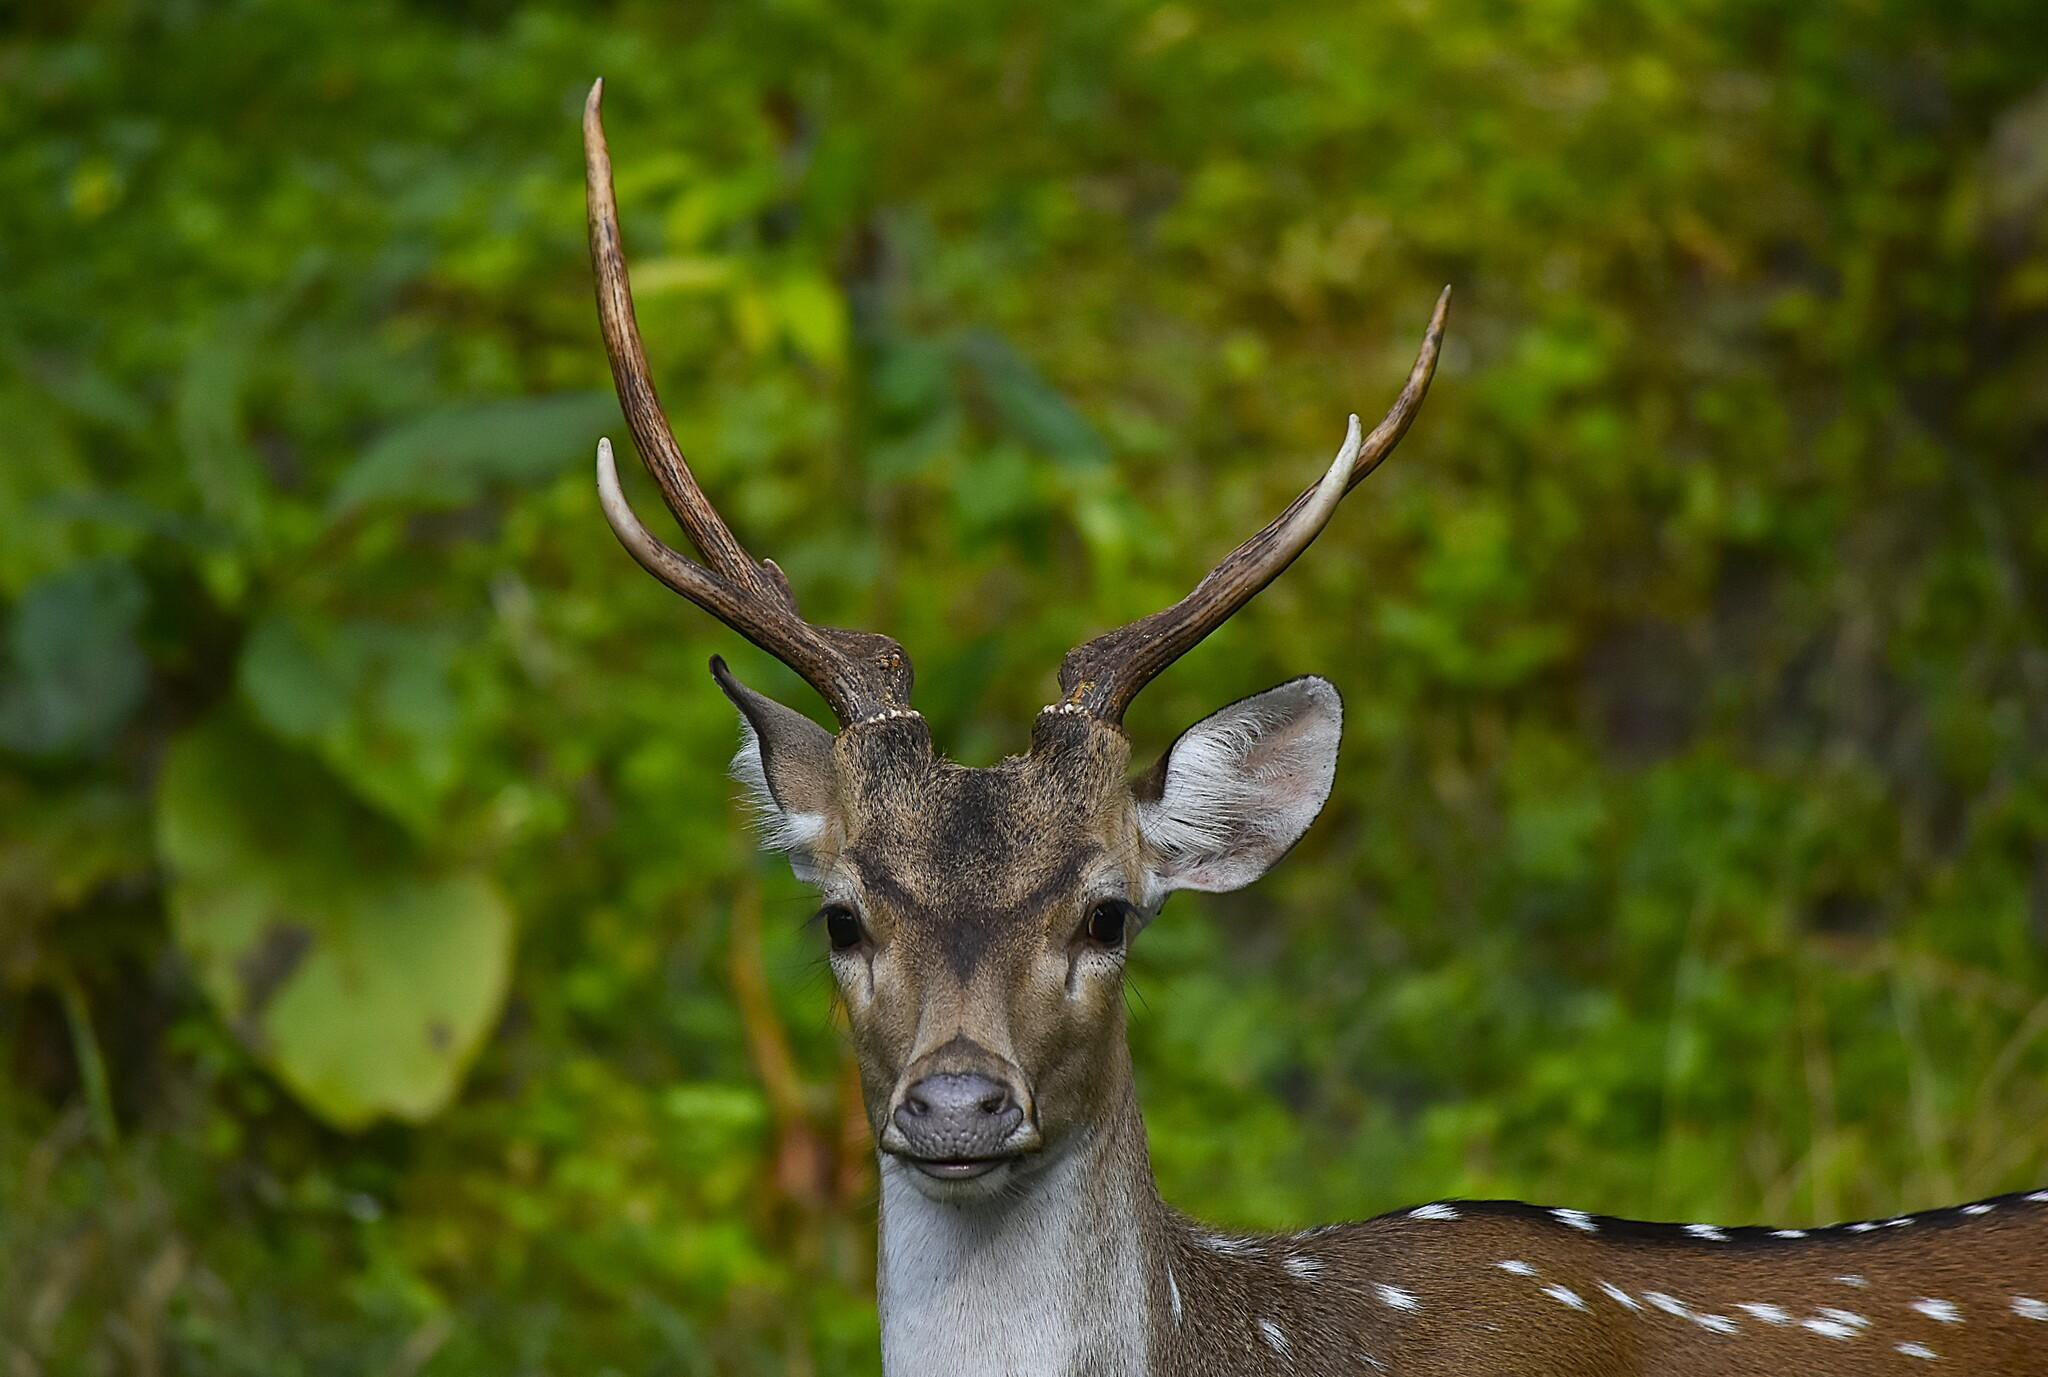Deer: (582, 86, 2046, 1375)
